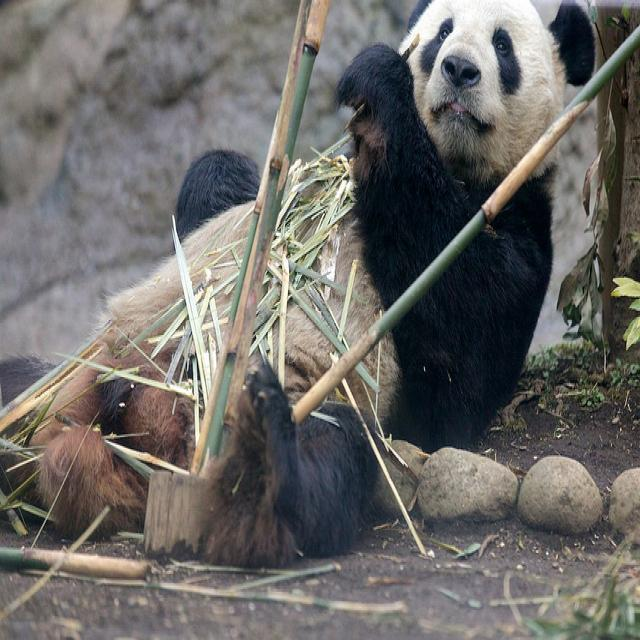Bear: (42, 0, 589, 578)
